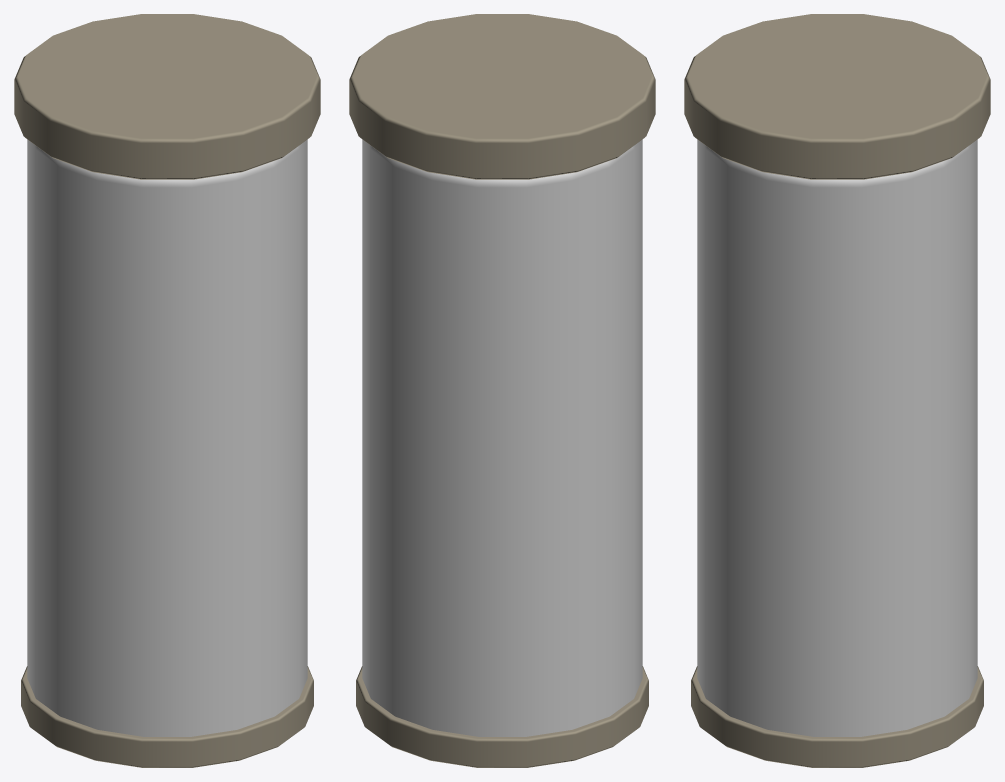
File: stone-halls-tower-corner.ed44280b.glb
3 views of the same model, side by side, from view 1: azimuth 30°, elevation 25°; view 2: azimuth 150°, elevation 25°; view 3: azimuth 270°, elevation 25° (orthographic).
Parts seen in each view (by area): view 1: body; view 2: body; view 3: body.
Boxes of the visible parts, x1=… form: body: x1=14, y1=14, x2=320, y2=767; body: x1=349, y1=14, x2=655, y2=767; body: x1=684, y1=14, x2=990, y2=767.
Bounding box in the file's own units: 0.9257 × 2.14 × 0.94.
